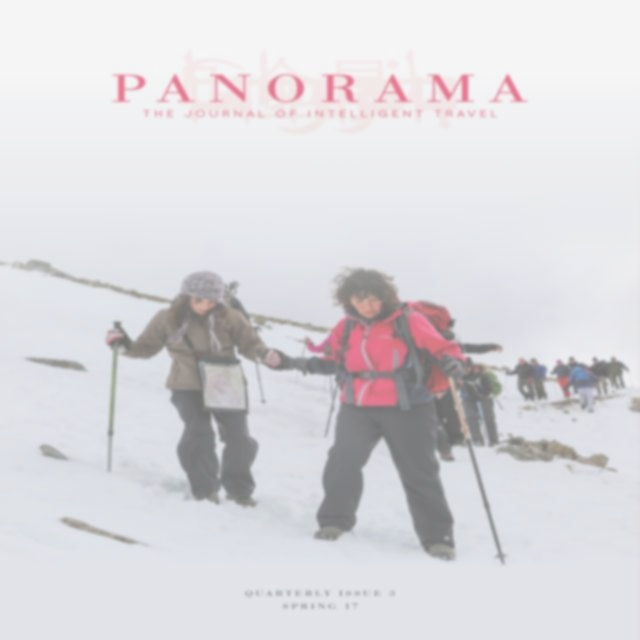pessoa: (254, 264, 472, 564), (100, 268, 282, 512), (434, 340, 504, 450), (455, 356, 503, 448), (302, 325, 347, 393), (428, 381, 458, 462), (563, 364, 600, 412), (504, 357, 538, 402), (224, 282, 252, 324), (549, 360, 573, 400), (588, 356, 610, 397), (529, 358, 548, 401), (606, 356, 630, 389), (602, 360, 614, 388), (568, 357, 582, 370), (580, 363, 589, 368)
